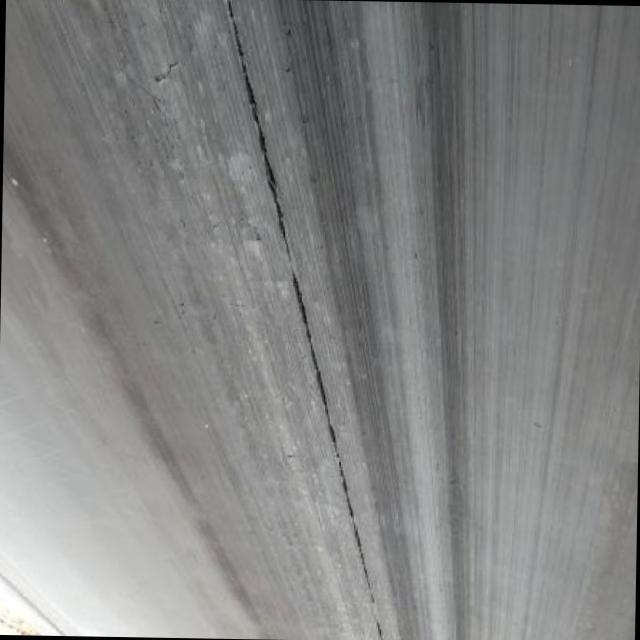Tear: (221, 0, 386, 640)
